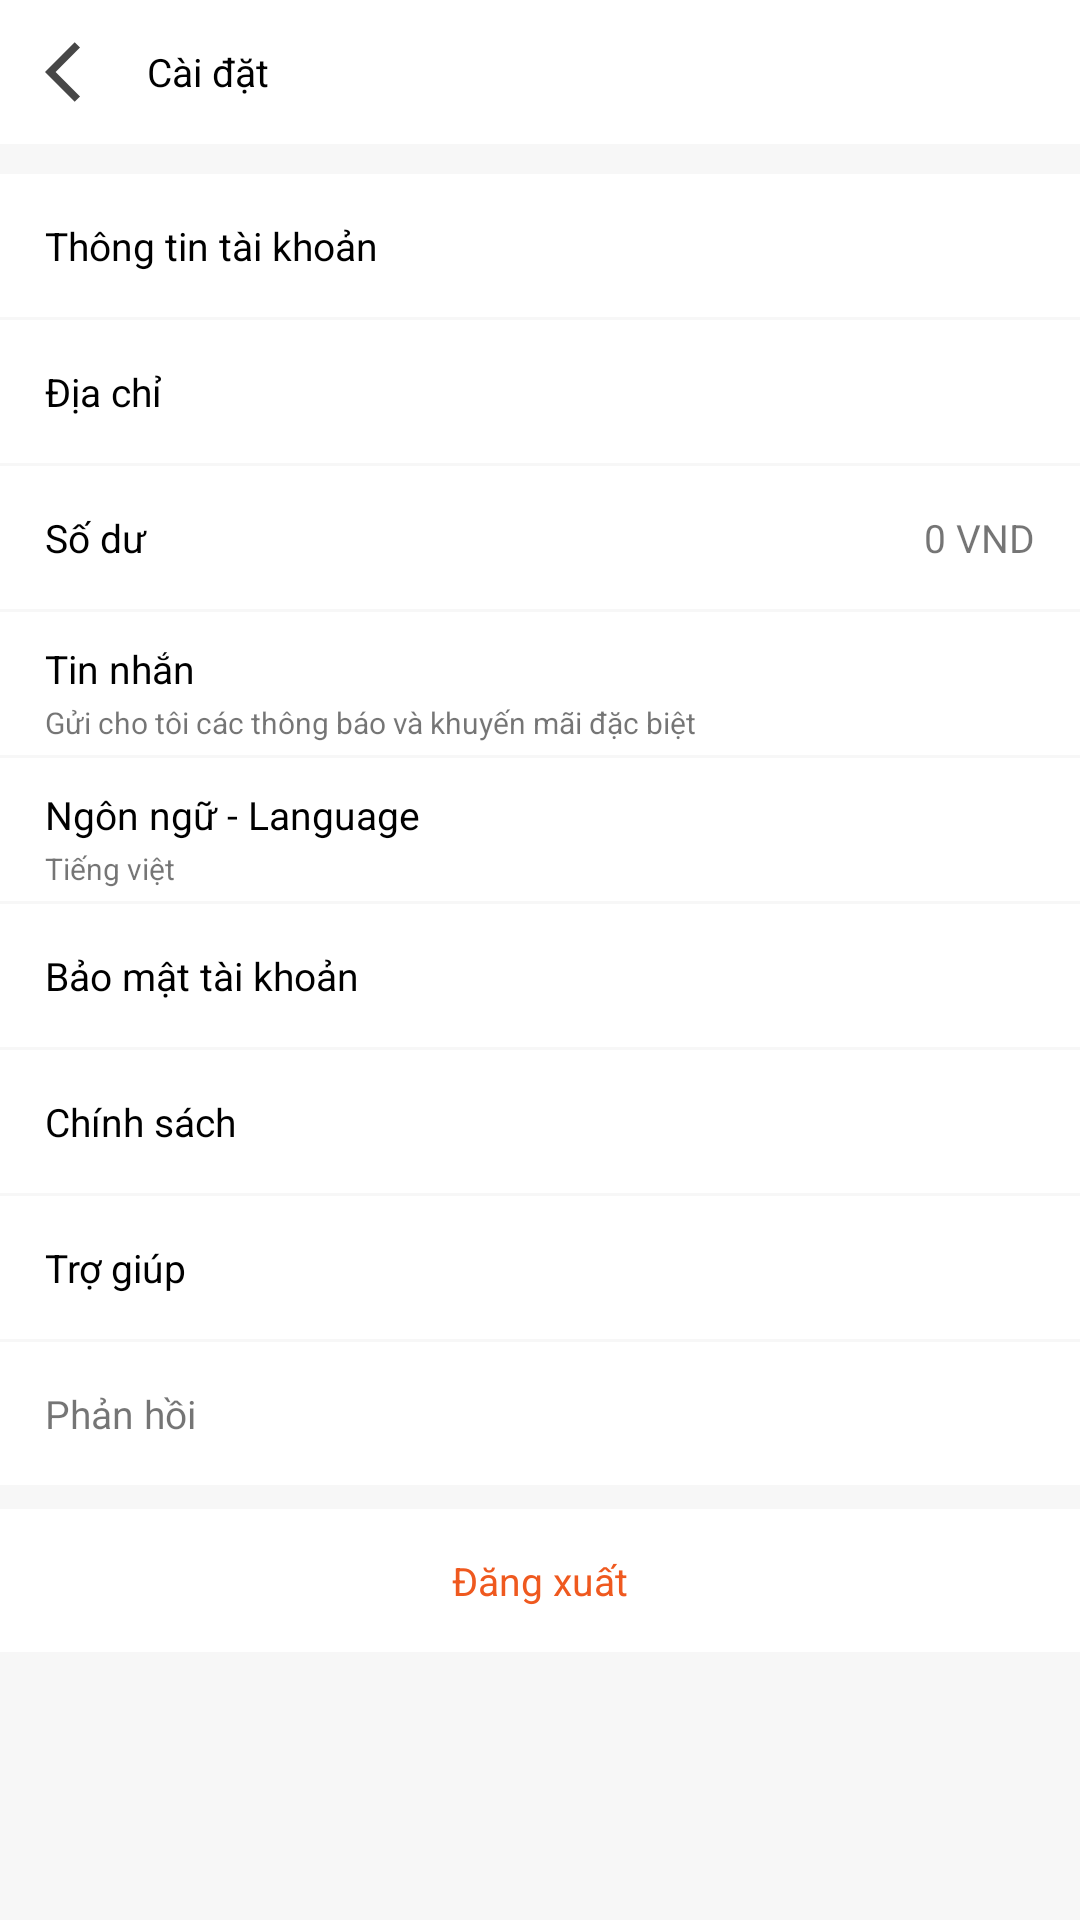

Icon click points for this 1080px×1920px phone screenshot, format [x,y]:
arrow back: [62,72]
